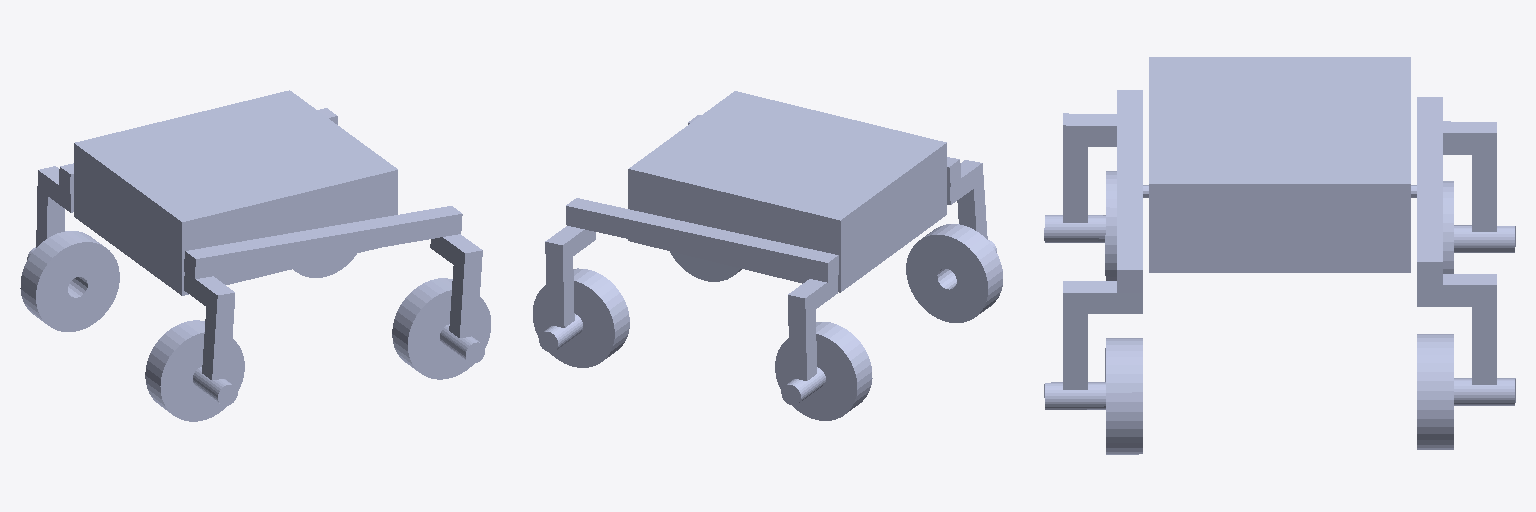
robot.urdf — simplified_swerve:
<?xml version="1.0" encoding="utf-8"?>
<!-- This URDF was automatically created by SolidWorks to URDF Exporter! Originally created by [author] ([email redacted]) 
     Commit Version: 1.6.0-4-g7f85cfe  Build Version: 1.6.7995.38578
     For more information, please see http://wiki.ros.org/sw_urdf_exporter -->
<robot
  name="simplified_swerve">
  <link
    name="base_Link">
    <inertial>
      <origin
        xyz="4.08993662049939E-05 0 -0.10047242954429"
        rpy="0 0 0" />
      <mass
        value="66.4215786923517" />
      <inertia
        ixx="1.81696810328787"
        ixy="-6.9338212464152E-17"
        ixz="7.20648103905395E-05"
        iyy="2.32403347252879"
        iyz="-9.74563613040897E-18"
        izz="3.69433679282844" />
    </inertial>
    <visual>
      <origin
        xyz="0 0 0"
        rpy="0 0 0" />
      <geometry>
        <mesh
          filename="package://urc_hw_description/meshes/simplified_swerve/Base_Link.STL" />
      </geometry>
      <material
        name="">
        <color
          rgba="0.792156862745098 0.819607843137255 0.933333333333333 1" />
      </material>
    </visual>
    <collision>
      <origin
        xyz="0 0 0"
        rpy="0 0 0" />
      <geometry>
        <mesh
          filename="package://urc_hw_description/meshes/simplified_swerve/Base_Link.STL" />
      </geometry>
    </collision>
  </link>
  <link
    name="L_Rocker_Link">
    <inertial>
      <origin
        xyz="-5.55111512312578E-17 0.0272622783776632 0.000169281253660614"
        rpy="0 0 0" />
      <mass
        value="2.2109729871291" />
      <inertia
        ixx="0.00109676826241139"
        ixy="-2.18257314584443E-18"
        ixz="-3.3881317890172E-19"
        iyy="0.106059793697663"
        iyz="3.15433975980145E-08"
        izz="0.106062641373692" />
    </inertial>
    <visual>
      <origin
        xyz="0 0 0"
        rpy="0 0 0" />
      <geometry>
        <mesh
          filename="package://urc_hw_description/meshes/simplified_swerve/L_Rocker_Link.STL" />
      </geometry>
      <material
        name="">
        <color
          rgba="0.792156862745098 0.819607843137255 0.933333333333333 1" />
      </material>
    </visual>
    <collision>
      <origin
        xyz="0 0 0"
        rpy="0 0 0" />
      <geometry>
        <mesh
          filename="package://urc_hw_description/meshes/simplified_swerve/L_Rocker_Link.STL" />
      </geometry>
    </collision>
  </link>
  <joint
    name="L_Rocker_Joint"
    type="revolute">
    <origin
      xyz="0.070358 0.2808 -0.127"
      rpy="0 0.024048 0" />
    <parent
      link="base_Link" />
    <child
      link="L_Rocker_Link" />
    <axis
      xyz="0 1 0" />
    <limit
      lower="-0.523"
      upper="0.523"
      effort="10"
      velocity="100" />
  </joint>
  <link
    name="FL_Swivel_Link">
    <inertial>
      <origin
        xyz="6.66133814775094E-16 0.0919295113383884 -0.157705012315022"
        rpy="0 0 0" />
      <mass
        value="1.20325341424635" />
      <inertia
        ixx="0.00643909515114176"
        ixy="1.86347248395946E-19"
        ixz="1.6940658945086E-19"
        iyy="0.00450109747410713"
        iyz="0.00143440655173121"
        izz="0.00244738563424939" />
    </inertial>
    <visual>
      <origin
        xyz="0 0 0"
        rpy="0 0 0" />
      <geometry>
        <mesh
          filename="package://urc_hw_description/meshes/simplified_swerve/FL_Swivel_Link.STL" />
      </geometry>
      <material
        name="">
        <color
          rgba="0.792156862745098 0.819607843137255 0.933333333333333 1" />
      </material>
    </visual>
    <collision>
      <origin
        xyz="0 0 0"
        rpy="0 0 0" />
      <geometry>
        <mesh
          filename="package://urc_hw_description/meshes/simplified_swerve/FL_Swivel_Link.STL" />
      </geometry>
    </collision>
  </link>
  <joint
    name="FL_Swivel_Joint"
    type="revolute">
    <origin
      xyz="0.35255 0.027178 0"
      rpy="0 0 -0.0018485" />
    <parent
      link="L_Rocker_Link" />
    <child
      link="FL_Swivel_Link" />
    <axis
      xyz="0 0 1" />
    <limit
      lower="-1.57"
      upper="1.57"
      effort="10"
      velocity="100" />
  </joint>
  <link
    name="FL_Wheel_Link">
    <inertial>
      <origin
        xyz="0 0.0381000000000001 1.38777878078145E-17"
        rpy="0 0 0" />
      <mass
        value="3.24703989875836" />
      <inertia
        ixx="0.0138956270838154"
        ixy="3.76082628580909E-19"
        ixz="-3.52365706057789E-19"
        iyy="0.0246489637760063"
        iyz="-2.16522797141881E-20"
        izz="0.0138956270838154" />
    </inertial>
    <visual>
      <origin
        xyz="0 0 0"
        rpy="0 0 0" />
      <geometry>
        <mesh
          filename="package://urc_hw_description/meshes/simplified_swerve/FL_Wheel_Link.STL" />
      </geometry>
      <material
        name="">
        <color
          rgba="0.792156862745098 0.819607843137255 0.933333333333333 1" />
      </material>
    </visual>
    <collision>
      <origin
        xyz="0 0 0"
        rpy="0 0 0" />
      <geometry>
        <mesh
          filename="package://urc_hw_description/meshes/simplified_swerve/FL_Wheel_Link.STL" />
      </geometry>
    </collision>
  </link>
  <joint
    name="FL_Wheel_Joint"
    type="continuous">
    <origin
      xyz="0 -0.027051 -0.28423"
      rpy="0 0 0" />
    <parent
      link="FL_Swivel_Link" />
    <child
      link="FL_Wheel_Link" />
    <axis
      xyz="0 1 4.8618E-05" />
  </joint>
  <link
    name="BL_Swivel_Link">
    <inertial>
      <origin
        xyz="2.77555756156289E-17 0.0919295113383879 -0.157705012315023"
        rpy="0 0 0" />
      <mass
        value="1.20325341424635" />
      <inertia
        ixx="0.00643909515114176"
        ixy="8.470329472543E-21"
        ixz="-1.76182853028894E-19"
        iyy="0.00450109747410713"
        iyz="0.00143440655173121"
        izz="0.00244738563424939" />
    </inertial>
    <visual>
      <origin
        xyz="0 0 0"
        rpy="0 0 0" />
      <geometry>
        <mesh
          filename="package://urc_hw_description/meshes/simplified_swerve/BL_Swivel_Link.STL" />
      </geometry>
      <material
        name="">
        <color
          rgba="0.792156862745098 0.819607843137255 0.933333333333333 1" />
      </material>
    </visual>
    <collision>
      <origin
        xyz="0 0 0"
        rpy="0 0 0" />
      <geometry>
        <mesh
          filename="package://urc_hw_description/meshes/simplified_swerve/BL_Swivel_Link.STL" />
      </geometry>
    </collision>
  </link>
  <joint
    name="BL_Swivel_Joint"
    type="revolute">
    <origin
      xyz="-0.35255 0.027178 0"
      rpy="0 0 -0.0007666" />
    <parent
      link="L_Rocker_Link" />
    <child
      link="BL_Swivel_Link" />
    <axis
      xyz="0 0 1" />
    <limit
      lower="-1.57"
      upper="1.57"
      effort="10"
      velocity="100" />
  </joint>
  <link
    name="BL_Wheel_Link">
    <inertial>
      <origin
        xyz="0 0.0380999942740809 -2.08881547555939E-05"
        rpy="0 0 0" />
      <mass
        value="3.24703989875836" />
      <inertia
        ixx="0.0138956270838154"
        ixy="1.68559556503606E-19"
        ixz="-1.35525271560688E-19"
        iyy="0.0246489605438419"
        iyz="-5.89546790573159E-06"
        izz="0.0138956303159798" />
    </inertial>
    <visual>
      <origin
        xyz="0 0 0"
        rpy="0 0 0" />
      <geometry>
        <mesh
          filename="package://urc_hw_description/meshes/simplified_swerve/BL_Wheel_Link.STL" />
      </geometry>
      <material
        name="">
        <color
          rgba="0.792156862745098 0.819607843137255 0.933333333333333 1" />
      </material>
    </visual>
    <collision>
      <origin
        xyz="0 0 0"
        rpy="0 0 0" />
      <geometry>
        <mesh
          filename="package://urc_hw_description/meshes/simplified_swerve/BL_Wheel_Link.STL" />
      </geometry>
    </collision>
  </link>
  <joint
    name="BL_Wheel_Joint"
    type="continuous">
    <origin
      xyz="0 -0.027051 -0.28423"
      rpy="0.00054825 0 0" />
    <parent
      link="BL_Swivel_Link" />
    <child
      link="BL_Wheel_Link" />
    <axis
      xyz="0 1 0.00054817" />
  </joint>
  <link
    name="R_Rocker_Link">
    <inertial>
      <origin
        xyz="-5.55111512312578E-17 -0.0272622783776632 0.000169281253660586"
        rpy="0 0 0" />
      <mass
        value="2.2109729871291" />
      <inertia
        ixx="0.00109676826241139"
        ixy="6.2804503377809E-19"
        ixz="-1.87702501111553E-18"
        iyy="0.106059793697663"
        iyz="-3.15433975979013E-08"
        izz="0.106062641373692" />
    </inertial>
    <visual>
      <origin
        xyz="0 0 0"
        rpy="0 0 0" />
      <geometry>
        <mesh
          filename="package://urc_hw_description/meshes/simplified_swerve/R_Rocker_Link.STL" />
      </geometry>
      <material
        name="">
        <color
          rgba="0.792156862745098 0.819607843137255 0.933333333333333 1" />
      </material>
    </visual>
    <collision>
      <origin
        xyz="0 0 0"
        rpy="0 0 0" />
      <geometry>
        <mesh
          filename="package://urc_hw_description/meshes/simplified_swerve/R_Rocker_Link.STL" />
      </geometry>
    </collision>
  </link>
  <joint
    name="R_Rocker_Joint"
    type="revolute">
    <origin
      xyz="0.070358 -0.2808 -0.127"
      rpy="0 0.069977 0" />
    <parent
      link="base_Link" />
    <child
      link="R_Rocker_Link" />
    <axis
      xyz="0 1 0" />
    <limit
      lower="-0.523"
      upper="0.523"
      effort="10"
      velocity="100" />
  </joint>
  <link
    name="FR_Swivel_Link">
    <inertial>
      <origin
        xyz="-9.99200722162641E-16 -0.0919295113383881 -0.157705012315022"
        rpy="0 0 0" />
      <mass
        value="1.20325341424635" />
      <inertia
        ixx="0.00643909515114175"
        ixy="-1.35525271560688E-20"
        ixz="-7.18283939271647E-19"
        iyy="0.00450109747410712"
        iyz="-0.00143440655173121"
        izz="0.00244738563424939" />
    </inertial>
    <visual>
      <origin
        xyz="0 0 0"
        rpy="0 0 0" />
      <geometry>
        <mesh
          filename="package://urc_hw_description/meshes/simplified_swerve/FR_Swivel_Link.STL" />
      </geometry>
      <material
        name="">
        <color
          rgba="0.792156862745098 0.819607843137255 0.933333333333333 1" />
      </material>
    </visual>
    <collision>
      <origin
        xyz="0 0 0"
        rpy="0 0 0" />
      <geometry>
        <mesh
          filename="package://urc_hw_description/meshes/simplified_swerve/FR_Swivel_Link.STL" />
      </geometry>
    </collision>
  </link>
  <joint
    name="FR_Swivel_Joint"
    type="revolute">
    <origin
      xyz="0.35255 -0.027178 0"
      rpy="0 0 0.0074664" />
    <parent
      link="R_Rocker_Link" />
    <child
      link="FR_Swivel_Link" />
    <axis
      xyz="0 0 1" />
    <limit
      lower="-1.57"
      upper="1.57"
      effort="10"
      velocity="100" />
  </joint>
  <link
    name="FR_Wheel_Link">
    <inertial>
      <origin
        xyz="0 -0.0381 6.93889390390723E-18"
        rpy="0 0 0" />
      <mass
        value="3.24703989875836" />
      <inertia
        ixx="0.0138956270838154"
        ixy="3.65918233213858E-19"
        ixz="-3.25260651745651E-19"
        iyy="0.0246489637760063"
        iyz="-2.70203510174122E-18"
        izz="0.0138956270838154" />
    </inertial>
    <visual>
      <origin
        xyz="0 0 0"
        rpy="0 0 0" />
      <geometry>
        <mesh
          filename="package://urc_hw_description/meshes/simplified_swerve/FR_Wheel_Link.STL" />
      </geometry>
      <material
        name="">
        <color
          rgba="0.792156862745098 0.819607843137255 0.933333333333333 1" />
      </material>
    </visual>
    <collision>
      <origin
        xyz="0 0 0"
        rpy="0 0 0" />
      <geometry>
        <mesh
          filename="package://urc_hw_description/meshes/simplified_swerve/FR_Wheel_Link.STL" />
      </geometry>
    </collision>
  </link>
  <joint
    name="FR_Wheel_Joint"
    type="continuous">
    <origin
      xyz="0 0.027051 -0.28423"
      rpy="0 0 0" />
    <parent
      link="FR_Swivel_Link" />
    <child
      link="FR_Wheel_Link" />
    <axis
      xyz="9.257E-05 1 0" />
  </joint>
  <link
    name="BR_Swivel_Link">
    <inertial>
      <origin
        xyz="1.04083408558608E-16 -0.091929511338388 -0.157705012315022"
        rpy="0 0 0" />
      <mass
        value="1.20325341424635" />
      <inertia
        ixx="0.00643909515114176"
        ixy="-8.13151629364128E-20"
        ixz="-3.79470760369927E-19"
        iyy="0.00450109747410713"
        iyz="-0.00143440655173121"
        izz="0.00244738563424939" />
    </inertial>
    <visual>
      <origin
        xyz="0 0 0"
        rpy="0 0 0" />
      <geometry>
        <mesh
          filename="package://urc_hw_description/meshes/simplified_swerve/BR_Swivel_Link.STL" />
      </geometry>
      <material
        name="">
        <color
          rgba="0.792156862745098 0.819607843137255 0.933333333333333 1" />
      </material>
    </visual>
    <collision>
      <origin
        xyz="0 0 0"
        rpy="0 0 0" />
      <geometry>
        <mesh
          filename="package://urc_hw_description/meshes/simplified_swerve/BR_Swivel_Link.STL" />
      </geometry>
    </collision>
  </link>
  <joint
    name="BR_Swivel_Joint"
    type="revolute">
    <origin
      xyz="-0.35255 -0.027178 0"
      rpy="0 0 -0.0073335" />
    <parent
      link="R_Rocker_Link" />
    <child
      link="BR_Swivel_Link" />
    <axis
      xyz="0 0 1" />
    <limit
      lower="-1.57"
      upper="1.57"
      effort="10"
      velocity="100" />
  </joint>
  <link
    name="BR_Wheel_Link">
    <inertial>
      <origin
        xyz="-6.93889390390723E-18 -0.0381 0"
        rpy="0 0 0" />
      <mass
        value="3.24703989875836" />
      <inertia
        ixx="0.0138956270838154"
        ixy="2.3039296165317E-19"
        ixz="8.67361737988404E-19"
        iyy="0.0246489637760063"
        iyz="1.40946282423116E-18"
        izz="0.0138956270838154" />
    </inertial>
    <visual>
      <origin
        xyz="0 0 0"
        rpy="0 0 0" />
      <geometry>
        <mesh
          filename="package://urc_hw_description/meshes/simplified_swerve/BR_Wheel_Link.STL" />
      </geometry>
      <material
        name="">
        <color
          rgba="0.792156862745098 0.819607843137255 0.933333333333333 1" />
      </material>
    </visual>
    <collision>
      <origin
        xyz="0 0 0"
        rpy="0 0 0" />
      <geometry>
        <mesh
          filename="package://urc_hw_description/meshes/simplified_swerve/BR_Wheel_Link.STL" />
      </geometry>
    </collision>
  </link>
  <joint
    name="BR_Wheel_Joint"
    type="continuous">
    <origin
      xyz="0 0.027051 -0.28423"
      rpy="0 0 0" />
    <parent
      link="BR_Swivel_Link" />
    <child
      link="BR_Wheel_Link" />
    <axis
      xyz="-9.257E-05 1 0" />
  </joint>
</robot>

--- Render facts (derived) ---
3 views of the same robot in one strip: view 1: azimuth 30°, elevation 25°; view 2: azimuth 150°, elevation 25°; view 3: azimuth 270°, elevation 25° (orthographic).
Model simplified_swerve with 11 links and 10 joints (6 revolute, 4 continuous), rooted at base_Link, posed all joints at 0.
Links seen in each view (by area): view 1: base_Link, R_Rocker_Link, BL_Wheel_Link, BR_Wheel_Link, FR_Wheel_Link, BR_Swivel_Link, FR_Swivel_Link, BL_Swivel_Link, FL_Wheel_Link, L_Rocker_Link; view 2: base_Link, L_Rocker_Link, BR_Wheel_Link, FL_Wheel_Link, BL_Wheel_Link, BL_Swivel_Link, FL_Swivel_Link, BR_Swivel_Link, FR_Wheel_Link; view 3: base_Link, FL_Swivel_Link, FR_Swivel_Link, R_Rocker_Link, BL_Swivel_Link, BR_Swivel_Link, L_Rocker_Link, FR_Wheel_Link, FL_Wheel_Link, BR_Wheel_Link, BL_Wheel_Link.
Link boxes in pixels (x1,y1,x2,y2): base_Link: (74,90,397,295); R_Rocker_Link: (184,206,462,278); BL_Wheel_Link: (20,231,119,331); BR_Wheel_Link: (145,320,244,421); FR_Wheel_Link: (392,278,490,379); BR_Swivel_Link: (184,273,237,405); FR_Swivel_Link: (430,234,484,363); BL_Swivel_Link: (27,166,73,259); FL_Wheel_Link: (293,254,356,277); L_Rocker_Link: (59,108,337,193); base_Link: (628,91,946,292); L_Rocker_Link: (566,198,838,282); BR_Wheel_Link: (906,224,1002,322); FL_Wheel_Link: (533,268,629,367); BL_Wheel_Link: (775,322,872,420); BL_Swivel_Link: (781,276,837,405); FL_Swivel_Link: (539,226,595,352); BR_Swivel_Link: (947,160,996,252); FR_Wheel_Link: (670,251,741,281); base_Link: (1143,57,1416,272); FL_Swivel_Link: (1417,274,1515,405); FR_Swivel_Link: (1044,281,1142,409); R_Rocker_Link: (1117,90,1142,292); BL_Swivel_Link: (1443,121,1515,252); BR_Swivel_Link: (1044,113,1116,242); L_Rocker_Link: (1417,97,1442,285); FR_Wheel_Link: (1105,338,1142,454); FL_Wheel_Link: (1417,334,1453,449); BR_Wheel_Link: (1105,171,1116,280); BL_Wheel_Link: (1443,181,1453,273).
Size in the robot's own frame: 0.9573 by 0.966 by 0.5547 metres.
11 mesh visuals loaded from 11 distinct referenced files (11 binary STL).